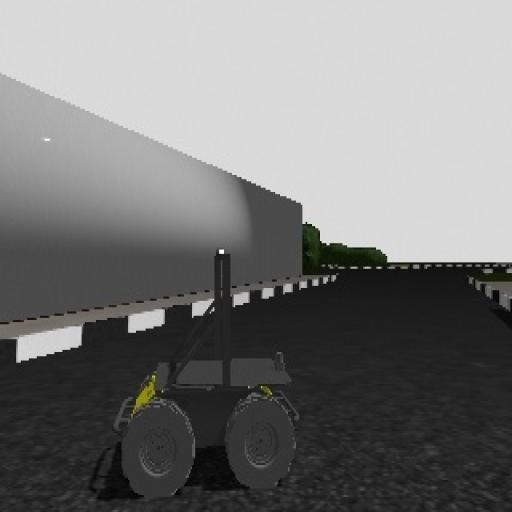huskya200: (78, 237, 314, 502)
